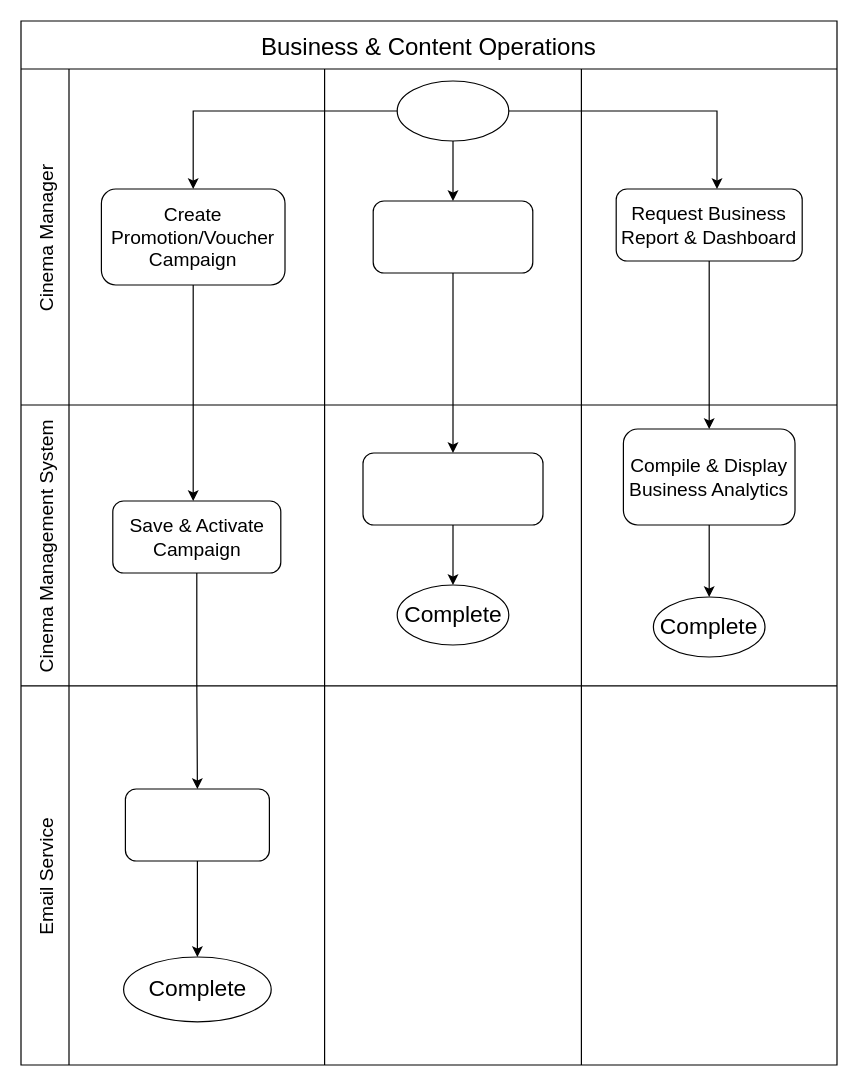
Image size: 858x1086. Some labels were removed from this diagram. Each missing label, with the box of its shape:
Review User Movie Reviews: (372, 200, 533, 273)
Send Voucher Emails to Customers: (124, 788, 269, 861)
Start: (396, 80, 509, 141)
Update Review Status (Approve/Hide): (362, 452, 543, 525)
